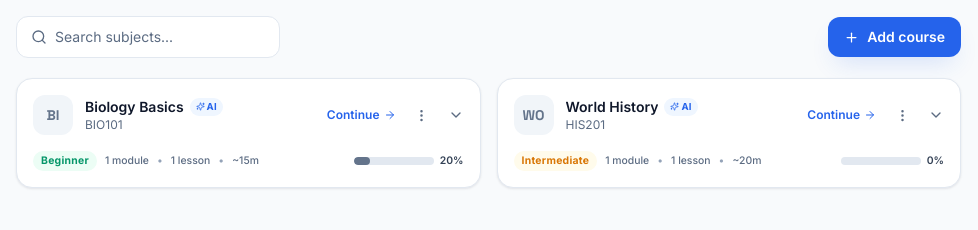
Test: LearningHubPage search — lessons, quizzes, and resources › clears the search box with the clear button
Type "biology" into the field with placeholder "Search subjects..." at (160, 37), box [55, 27, 265, 47]
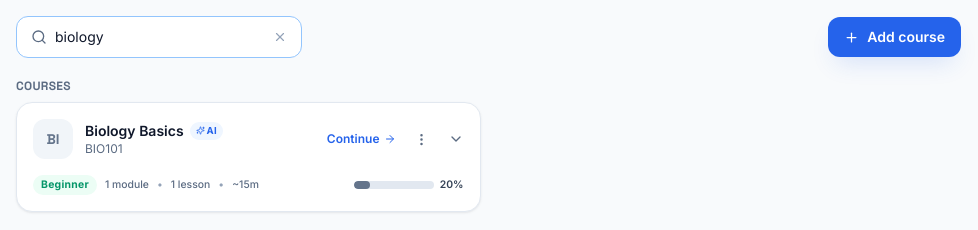
Click the button named "clear search" at (280, 37), box [273, 30, 287, 44]
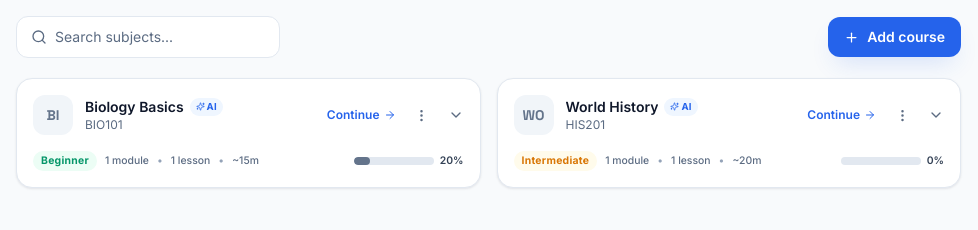
Check: the field with placeholder "Search subjects..." is empty, box [55, 27, 265, 47]
Check: the text "World History" is shown, box [566, 97, 658, 117]
